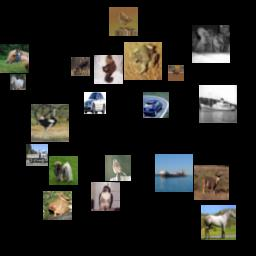automobile: (143, 92, 169, 118), (84, 92, 106, 114)
bird: (31, 104, 69, 142), (91, 182, 120, 211), (109, 7, 138, 36), (105, 155, 131, 181)
cat: (192, 25, 230, 63), (94, 55, 123, 84)
deer: (194, 165, 229, 200), (71, 57, 90, 76)
dog: (49, 156, 78, 185)
frog: (124, 42, 162, 80), (43, 191, 72, 220)
ship: (155, 154, 193, 192), (199, 85, 237, 123)
truck: (26, 144, 48, 166)
